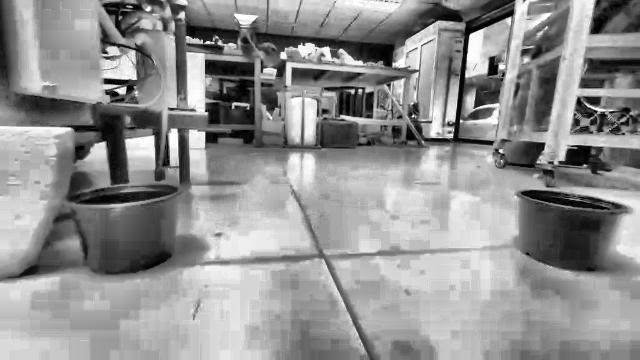pot: (64, 183, 181, 274), (517, 189, 631, 271)
